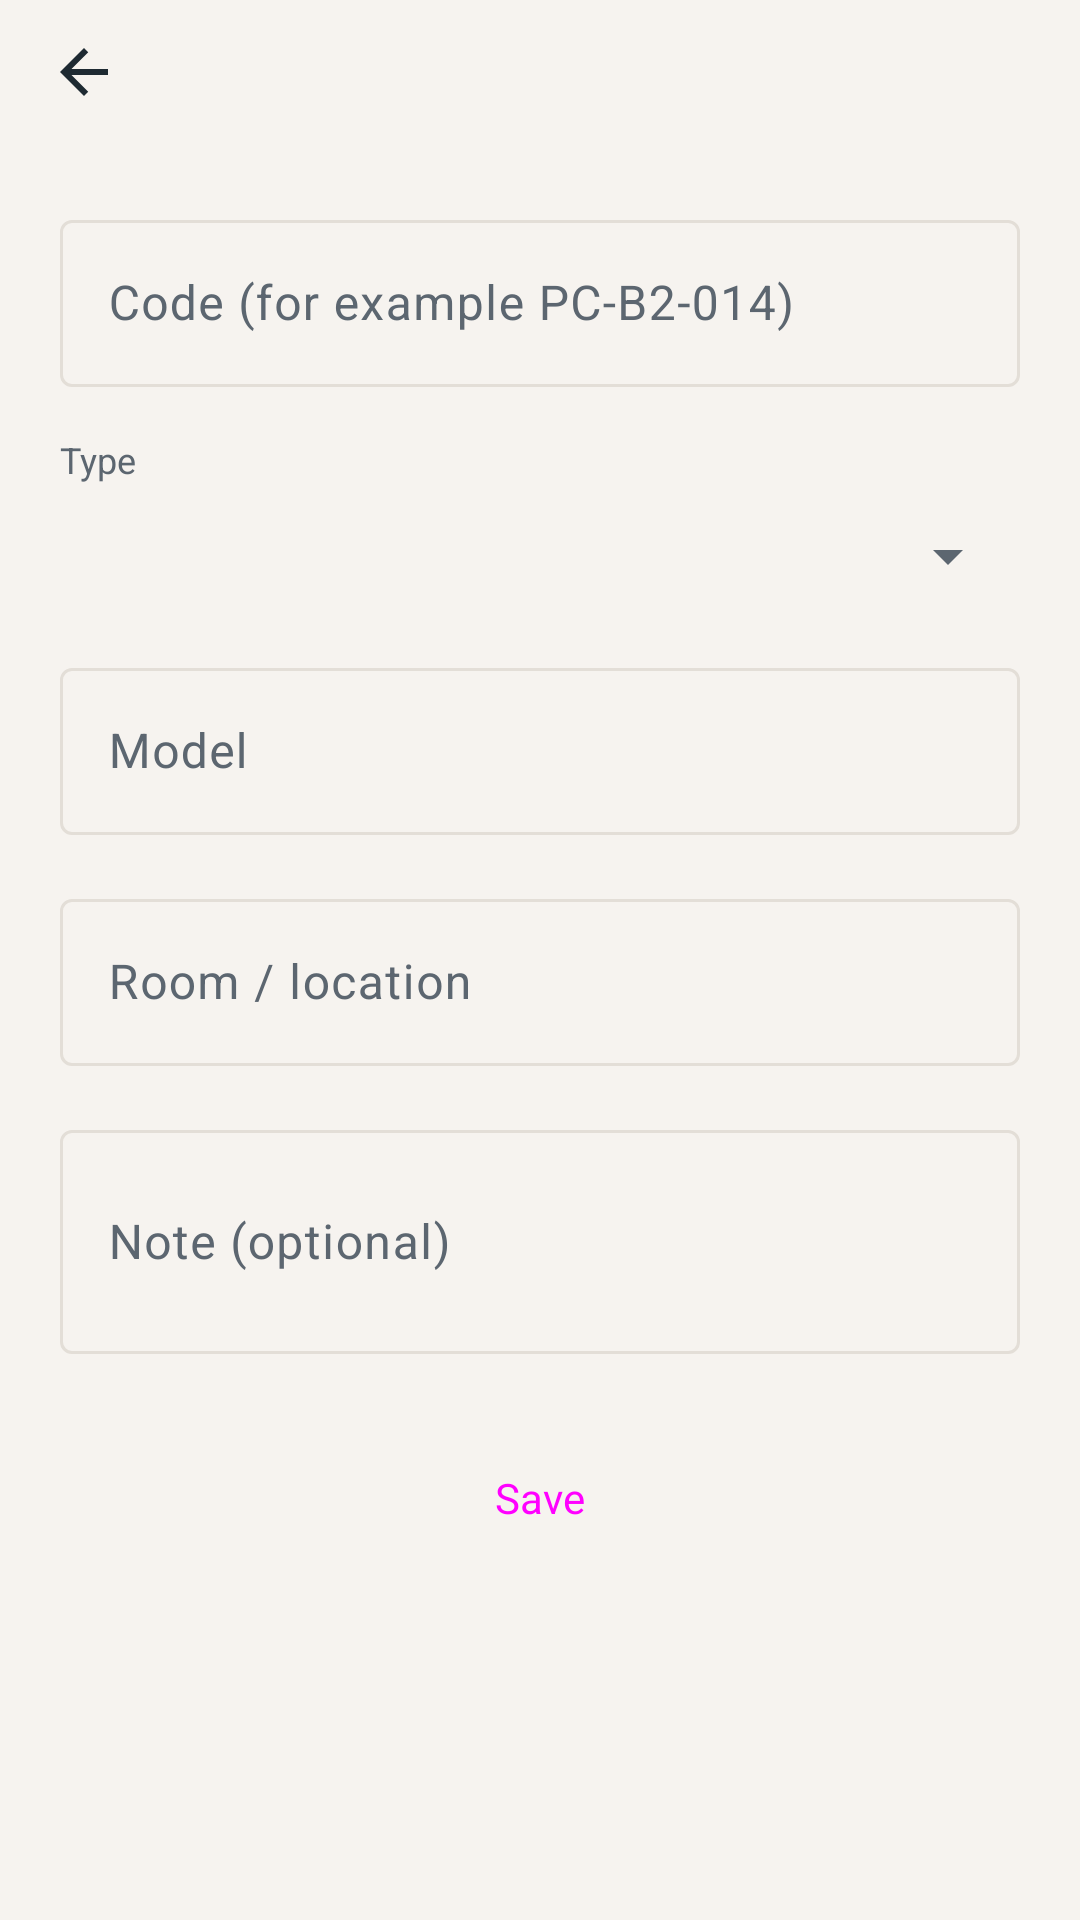

Named icons in this screenshot (1080w x 1920h) and their bounding boxes, (left=x1, top=y1, right=x2, bottom=y2):
Back: (left=60, top=48, right=108, bottom=96)
